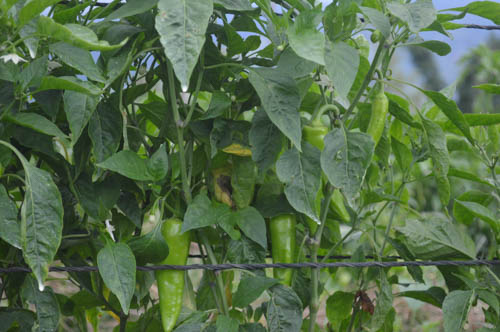ChiliPepper: (304, 124, 350, 220), (155, 219, 192, 331), (265, 212, 298, 290), (367, 96, 392, 151)
